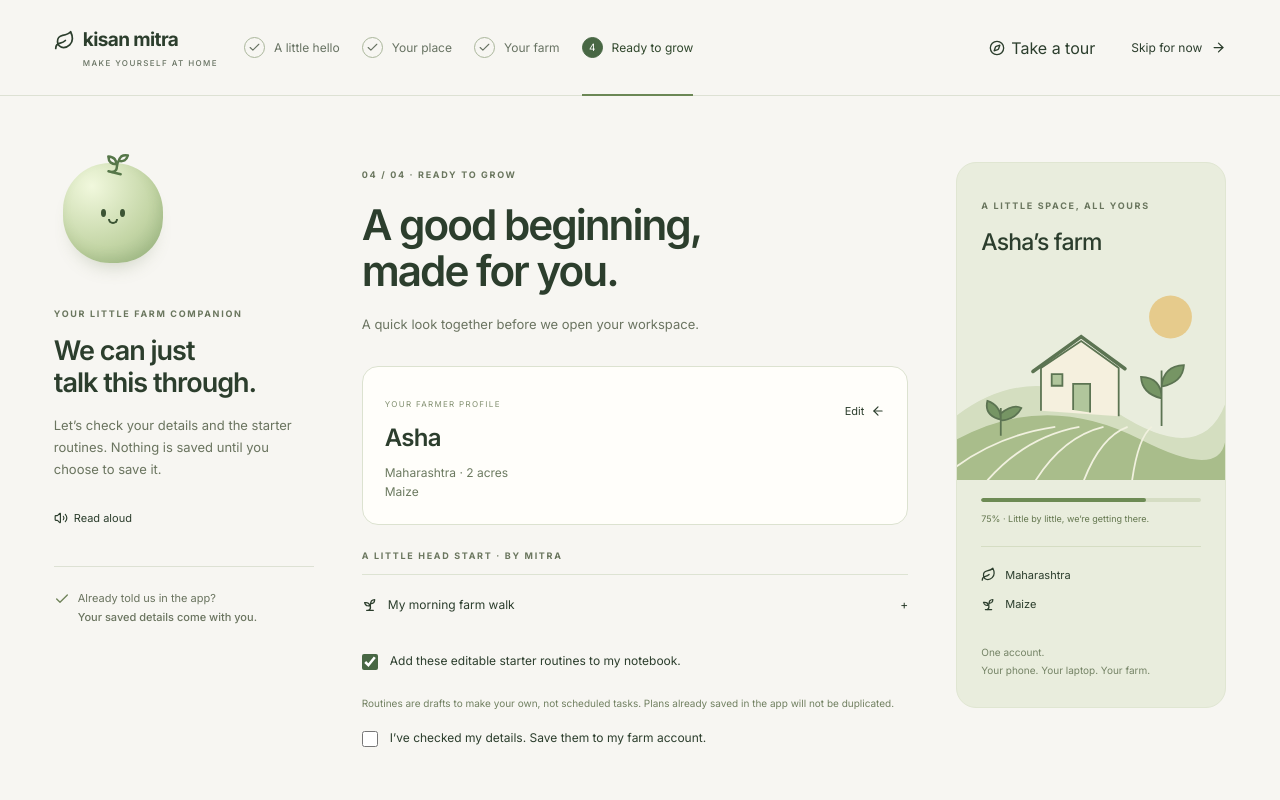
retains the draft and shows retryable failure instead of claiming success
Click the checkbox labelled "I’ve checked my details. Save them to my farm account.": (370, 739) [362,731,378,747]
(page scrolled)
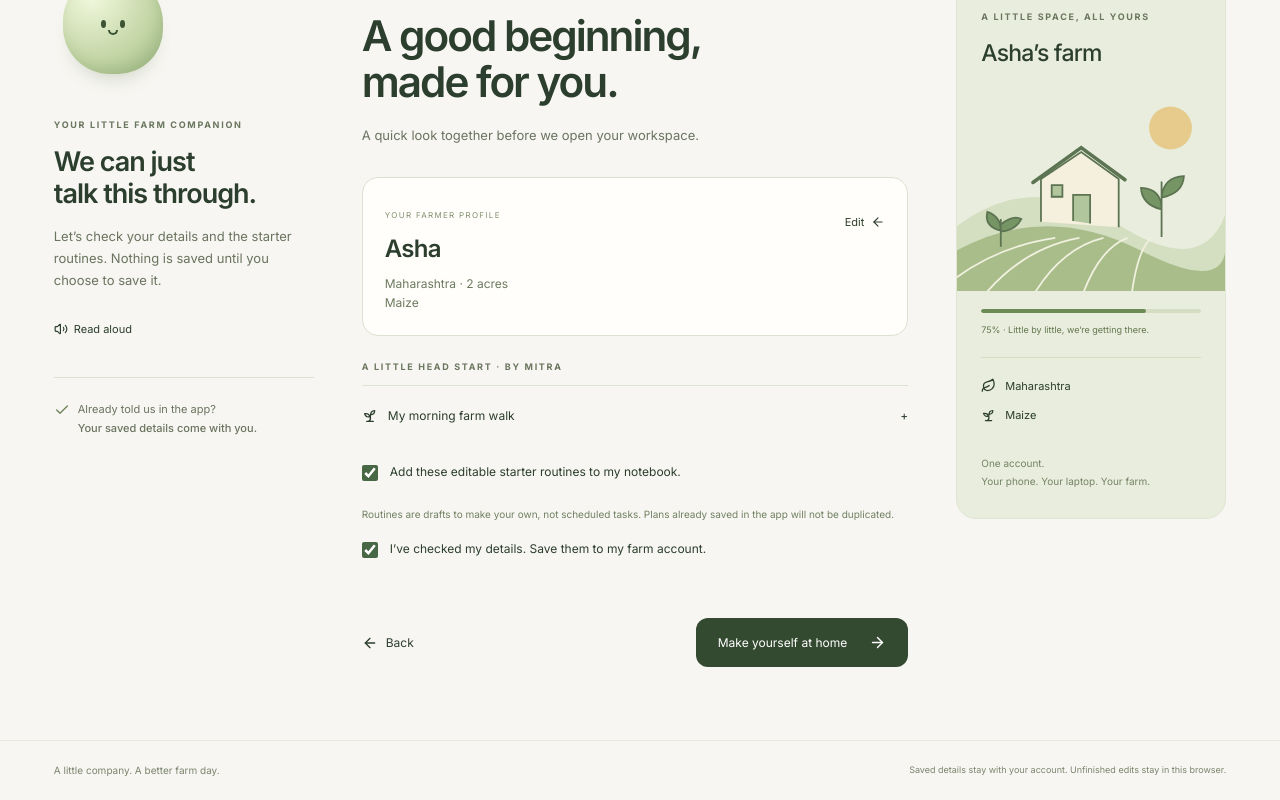
Click the button "Make yourself at home": (802, 643) [696,618,908,667]
(page scrolled)
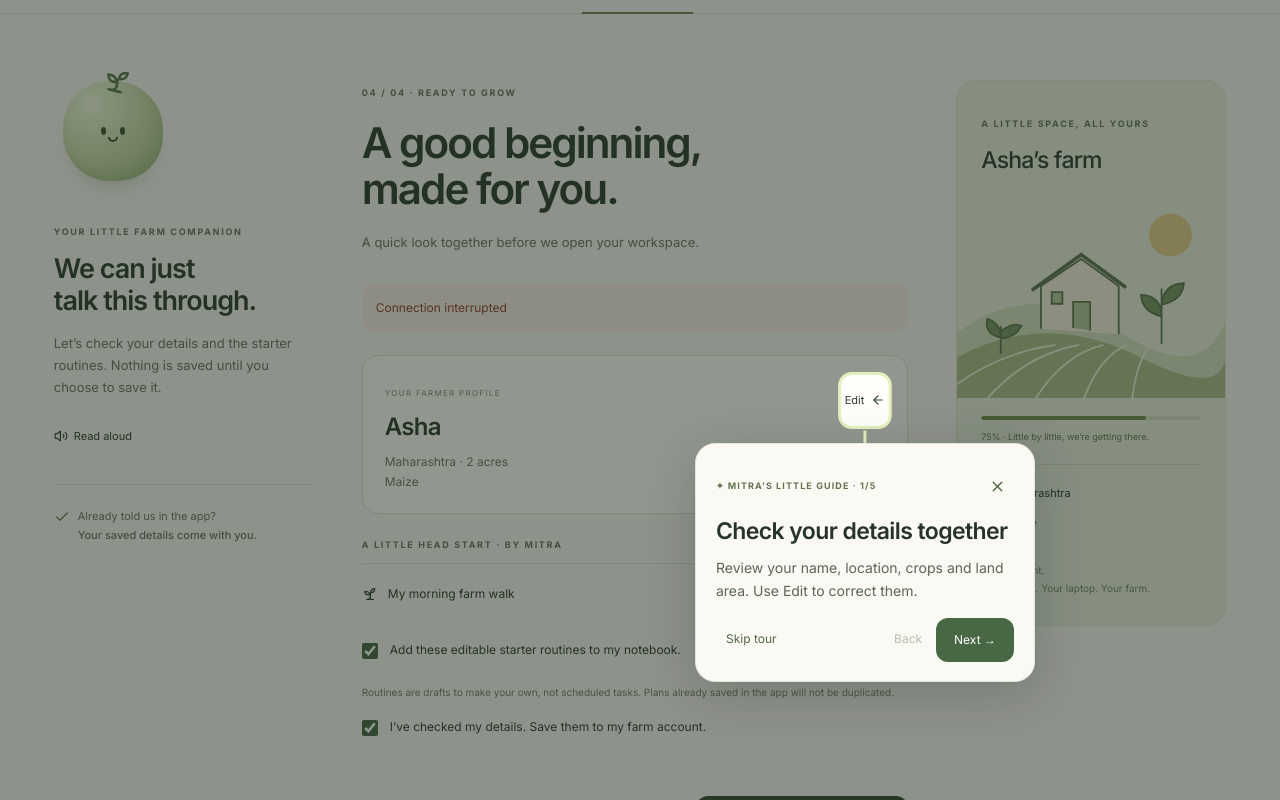
Expected: the message reads "Connection interrupted", [376,300,507,315]
